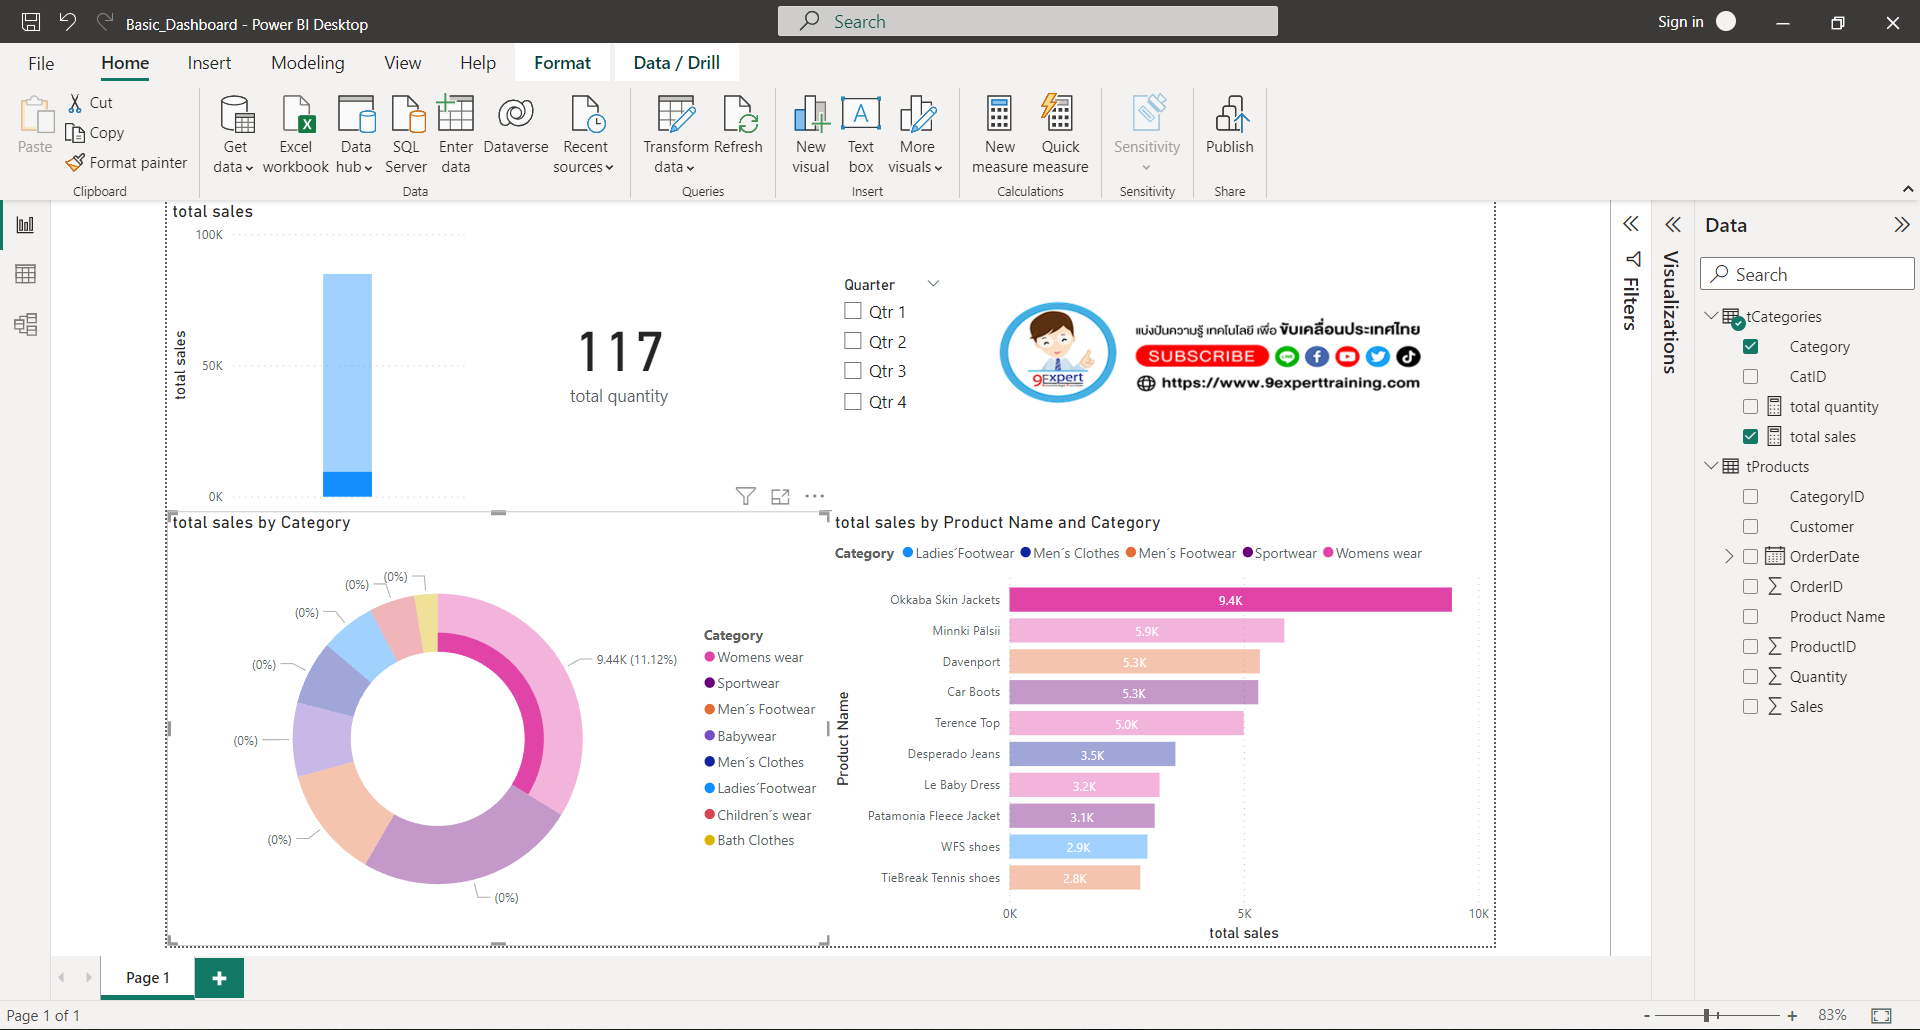

Layout of this report page (visuals, bound fields, positions):
{"tool":"powerbi","page":{"name":"Page 1","canvas":[1280,720],"ordinal":0},"visuals":[{"type":"columnChart","fields":{"Y":["tCategories.total sales"]},"box":[0,0,291.9,300.3],"z":0},{"type":"card","fields":{"Values":["tCategories.total quantity"]},"box":[291.9,0,288.2,300.3],"z":1000},{"type":"donutChart","fields":{"Y":["tCategories.total sales"],"Category":["tCategories.Category"]},"box":[0,300.5,640.8,419.9],"z":2000},{"type":"slicer","fields":{"Values":["tProducts.OrderDate.Variation.Date Hierarchy.Quarter"]},"box":[640.8,68.6,118,168.8],"z":3000},{"type":"barChart","fields":{"Category":["tProducts.Product Name"],"Y":["tCategories.total sales"],"Series":["tCategories.Category"]},"box":[639.5,300.5,640.8,419.9],"z":4000},{"type":"image","box":[759,69,521,169],"z":5000}]}

Visuals, with their boxes on the page's 1280x720 design canvas (x1, y1, x2, y2). These are canvas units, not pixel positions in the 1920x1030 screenshot, which may show the page scaled, cropped or inside an application window:
columnChart - tCategories.total sales: [left=0, top=0, right=292, bottom=300]
card - tCategories.total quantity: [left=292, top=0, right=580, bottom=300]
donutChart - tCategories.total sales x tCategories.Category: [left=0, top=300, right=641, bottom=720]
slicer - tProducts.OrderDate.Variation.Date Hierarchy.Quarter: [left=641, top=69, right=759, bottom=237]
barChart - tProducts.Product Name x tCategories.total sales: [left=640, top=300, right=1280, bottom=720]
image: [left=759, top=69, right=1280, bottom=238]
